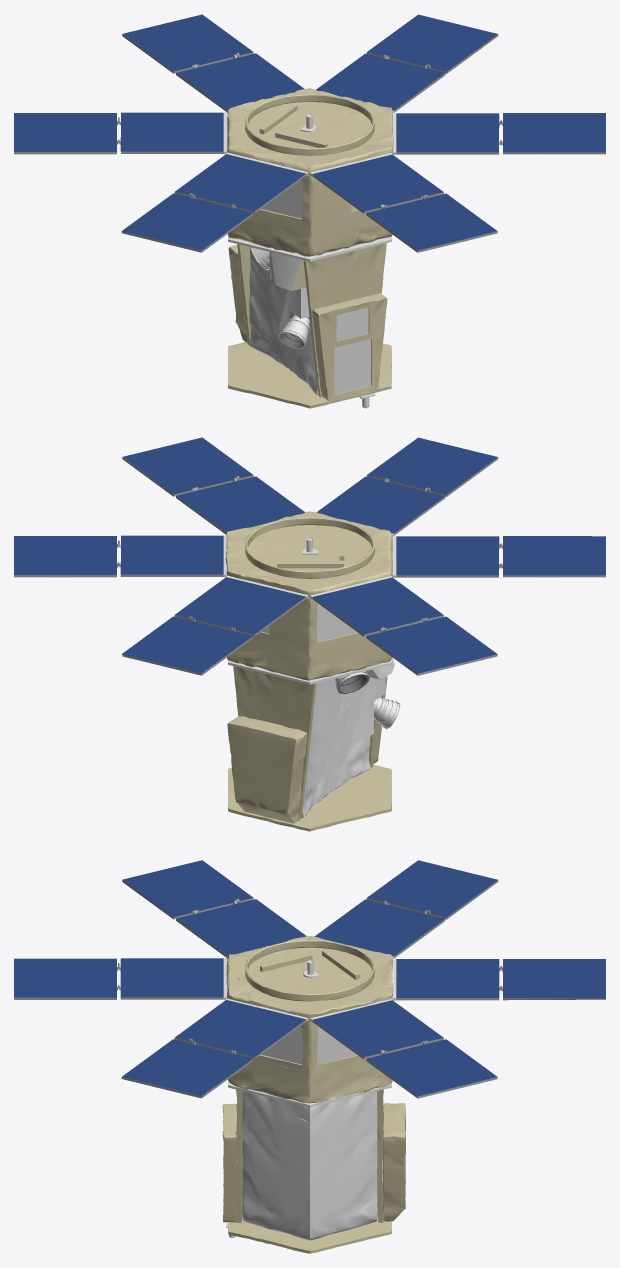
The model's file is sorce.glb.
3 views of the same model, one above another, from view 1: azimuth 30°, elevation 25°; view 2: azimuth 150°, elevation 25°; view 3: azimuth 270°, elevation 25° (orthographic).
Visible parts, largest first — view 1: solar-panel, body, foil; view 2: solar-panel, body, foil; view 3: solar-panel, body, foil.
Part boxes in pixels (x1,y1,x2,y2): solar-panel: (14,14,605,252); body: (223,88,396,408); foil: (228,104,387,402); solar-panel: (14,437,605,675); body: (223,511,400,831); foil: (227,531,387,823); solar-panel: (14,860,605,1098); body: (223,936,396,1253); foil: (222,950,405,1222).
Bounding box in the file's own units: 3.1 × 1.63 × 3.28.
